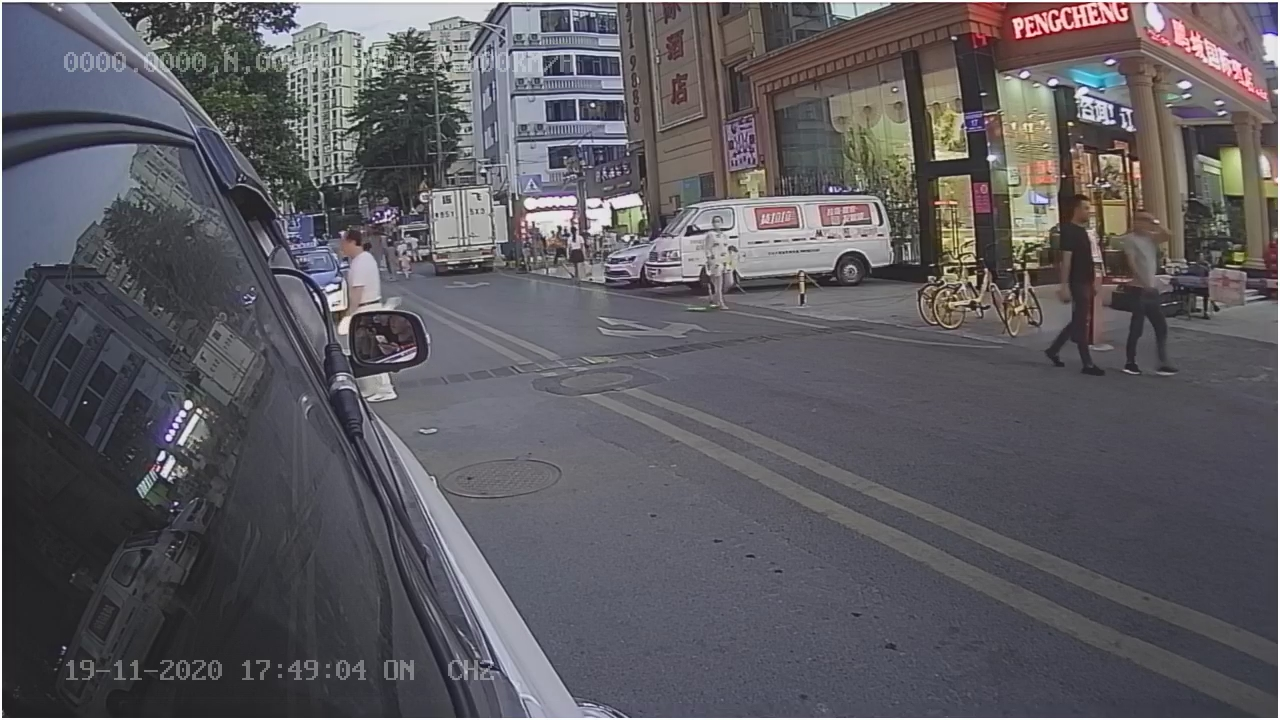person: (1040, 194, 1112, 376)
